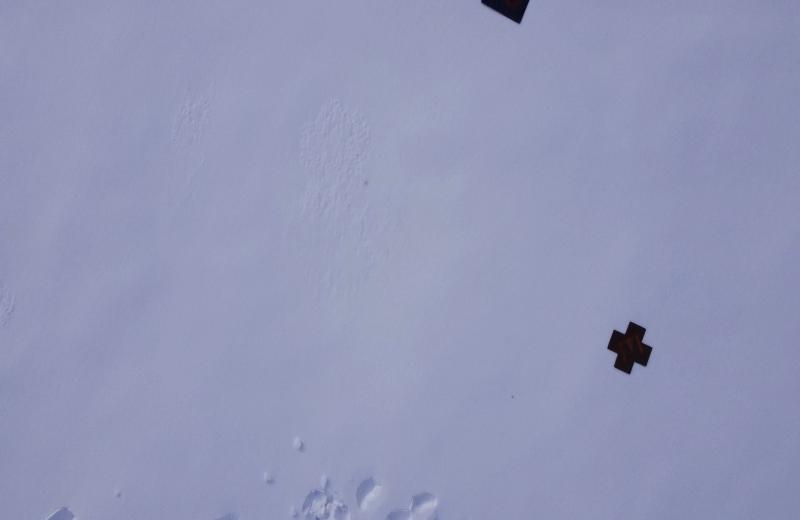Cross: (607, 320, 653, 375)
Quarter Circle: (476, 0, 532, 24)
